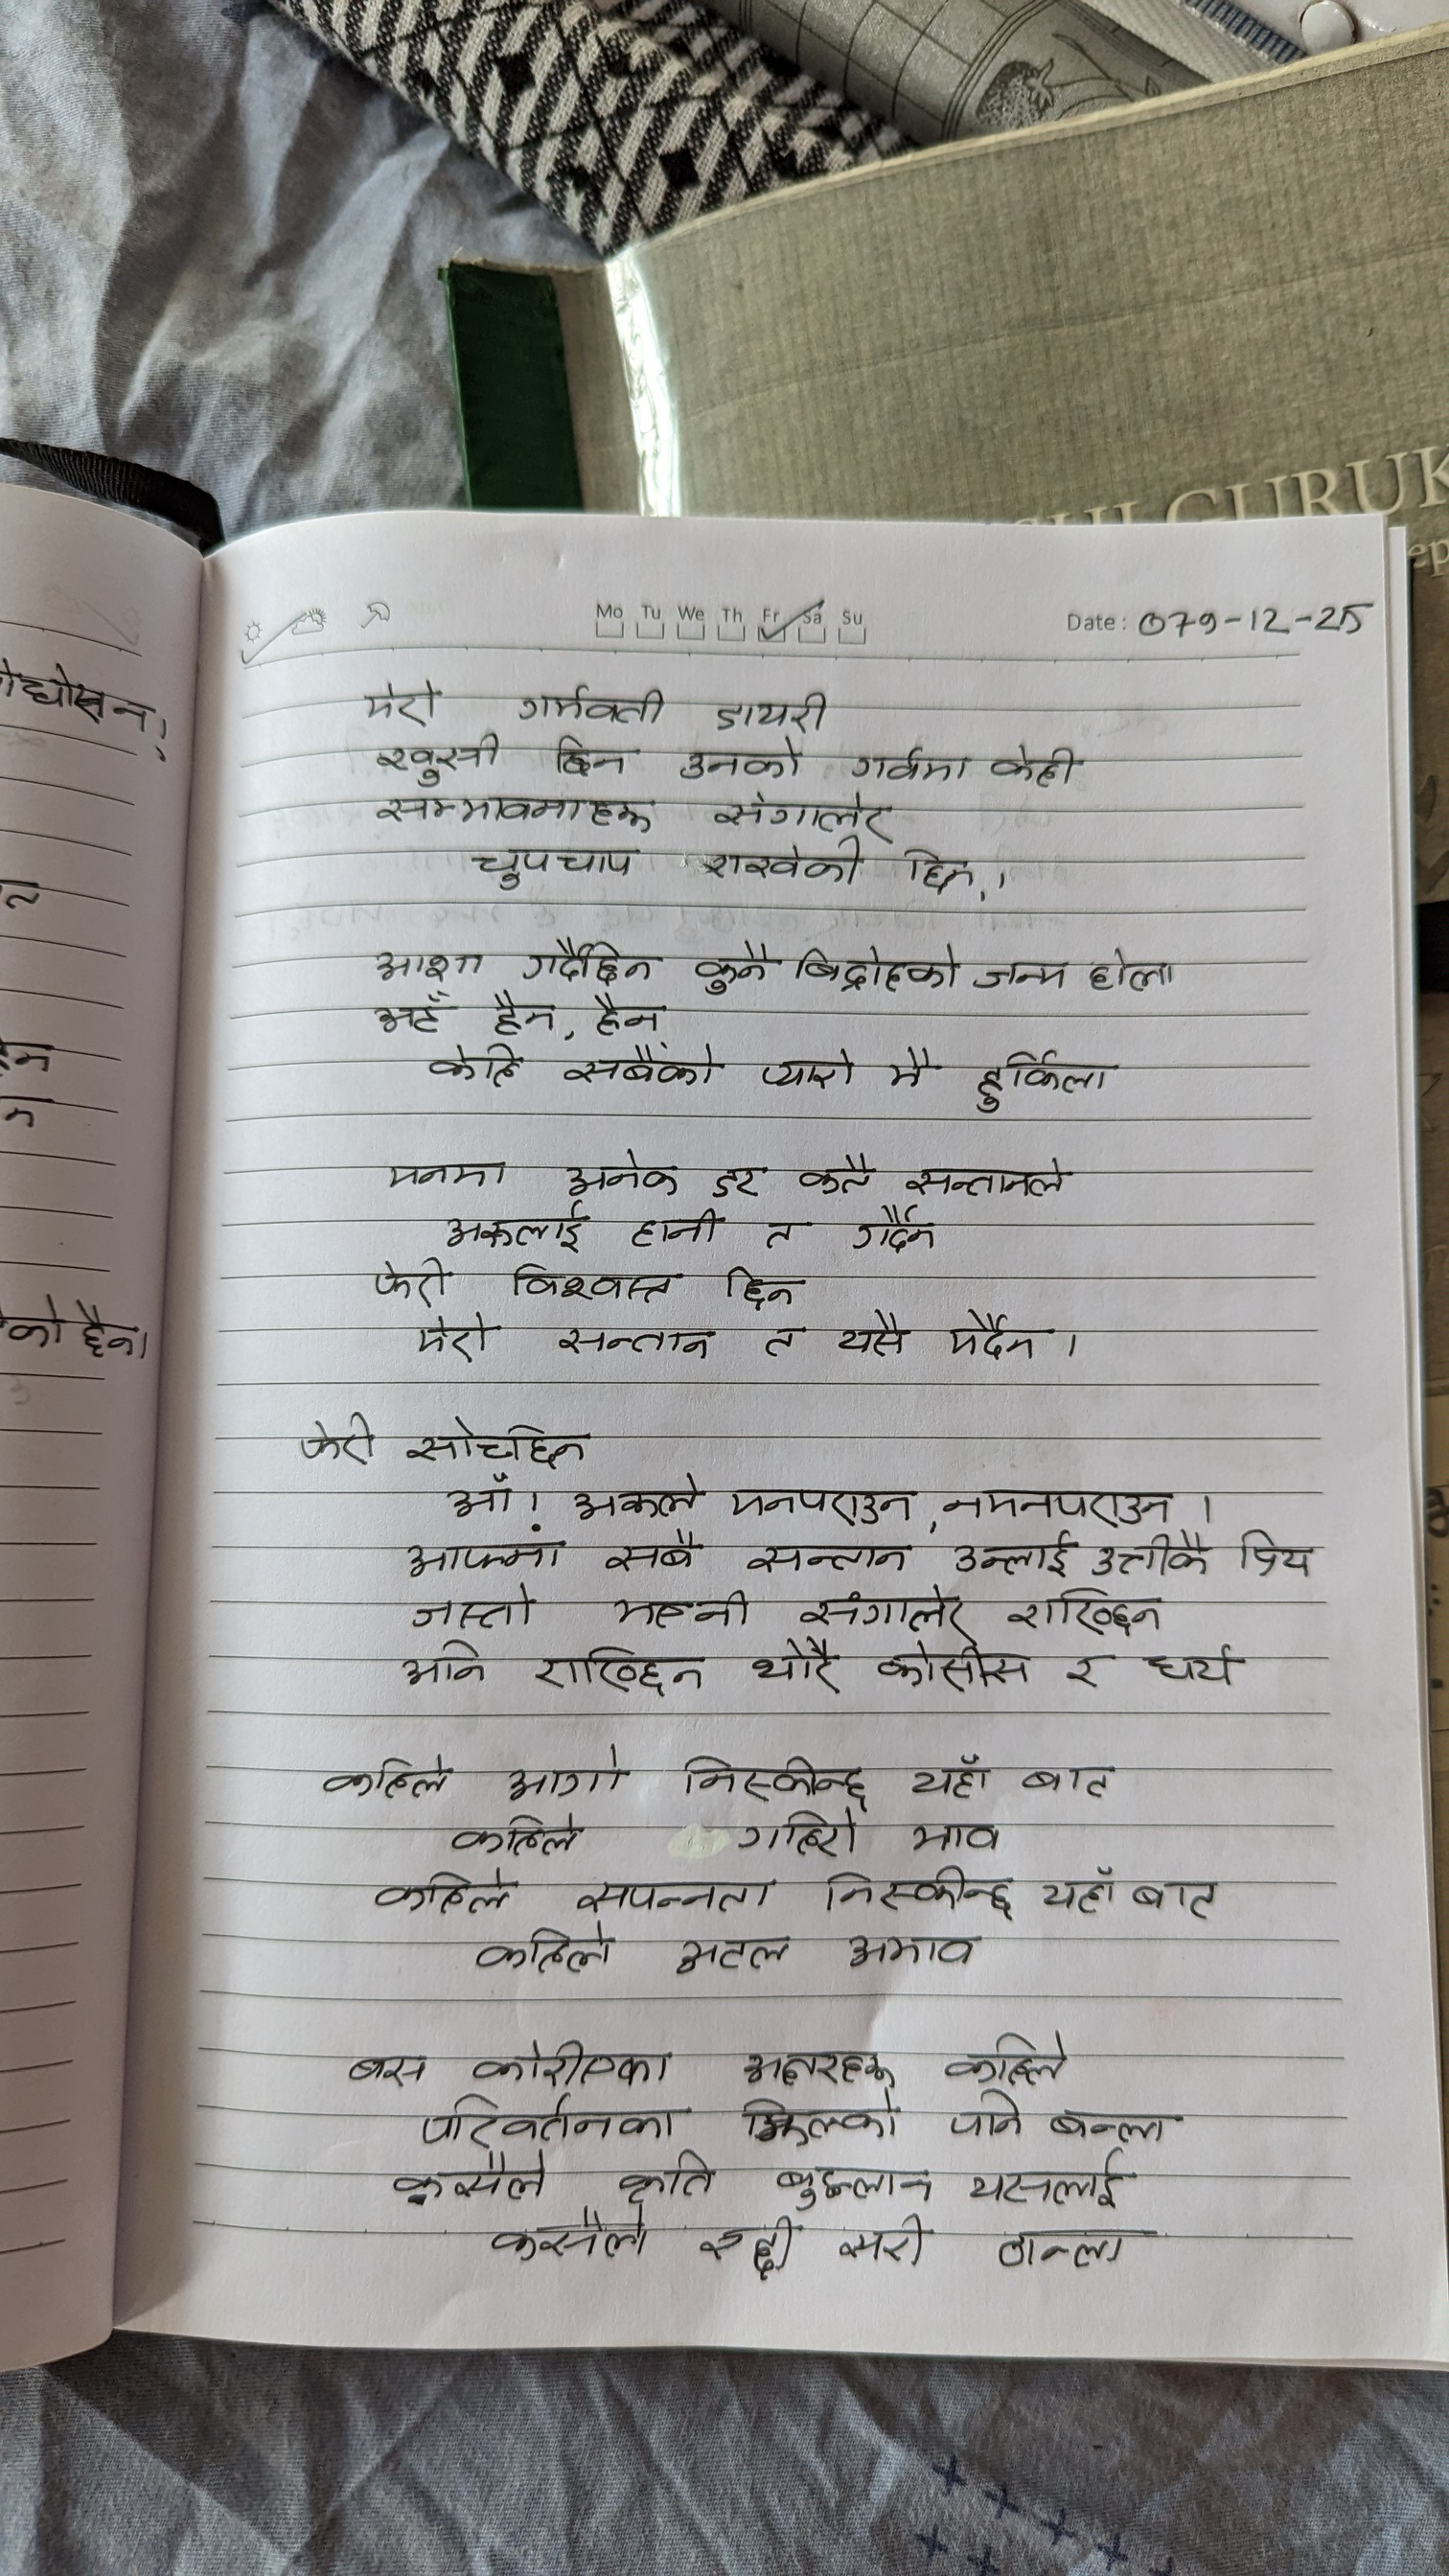text: (418, 2095, 681, 2148), (372, 789, 655, 837), (1134, 596, 1369, 646), (938, 1483, 1177, 1530), (962, 2144, 1125, 2212), (823, 1867, 1016, 1921), (469, 2038, 674, 2089), (973, 1047, 1115, 1120), (402, 1417, 591, 1470), (734, 2086, 901, 2146), (681, 1750, 876, 1801), (699, 832, 865, 890), (534, 1645, 709, 1700), (1003, 1585, 1164, 1640), (798, 943, 964, 996), (487, 2208, 653, 2261), (872, 1638, 1028, 1695), (387, 2151, 552, 2204), (439, 1200, 593, 1256), (706, 789, 893, 835), (794, 1589, 971, 1637), (497, 1741, 630, 1805), (370, 729, 510, 789), (469, 840, 637, 890), (510, 1258, 678, 1307), (570, 1879, 780, 1918), (559, 1040, 718, 1092), (938, 2028, 1069, 2089), (725, 1486, 915, 1529), (471, 1923, 616, 1978), (775, 2164, 934, 2212), (694, 2212, 798, 2282), (904, 1157, 1070, 1201), (517, 936, 655, 989), (372, 1867, 518, 1916), (610, 1585, 752, 1637), (511, 683, 669, 729), (409, 1578, 536, 1635), (400, 1534, 563, 1578), (446, 1810, 586, 1861), (745, 1537, 909, 1580), (1090, 1529, 1215, 1583), (741, 2043, 897, 2088), (711, 685, 832, 740), (571, 1474, 704, 1523), (556, 1323, 717, 1364), (317, 1752, 453, 1799), (561, 1146, 683, 1200), (950, 1530, 1070, 1583), (996, 2222, 1127, 2270), (740, 1810, 860, 1861), (674, 1930, 793, 1982), (679, 736, 803, 784), (844, 1928, 977, 1973), (1047, 2104, 1178, 2148), (750, 1640, 844, 1698), (835, 2212, 929, 2270), (947, 1309, 1044, 1364), (847, 743, 973, 786), (904, 844, 987, 906), (617, 2151, 717, 2203), (686, 939, 775, 996), (412, 1311, 499, 1368), (628, 1200, 724, 1251), (384, 1154, 510, 1192), (849, 1203, 941, 1256), (985, 740, 1079, 791), (1139, 1644, 1238, 1691), (602, 1530, 708, 1575), (297, 1412, 382, 1467), (757, 1047, 858, 1093), (400, 1637, 490, 1688), (368, 947, 487, 985), (947, 2088, 1024, 2146), (793, 1146, 878, 1200), (1086, 947, 1177, 996), (423, 1044, 522, 1088), (1238, 1527, 1318, 1582), (1039, 1865, 1120, 1918), (364, 1258, 456, 1304), (720, 1258, 800, 1311), (835, 1307, 913, 1361), (909, 1753, 993, 1803), (547, 732, 633, 778), (1131, 1879, 1217, 1925), (372, 991, 455, 1039), (359, 679, 439, 729), (971, 955, 1067, 996), (591, 989, 663, 1042), (487, 989, 559, 1039), (1019, 1762, 1115, 1799), (908, 1821, 1001, 1858), (446, 1472, 513, 1523), (341, 2052, 430, 2088), (885, 1046, 938, 1093), (708, 1161, 766, 1201), (1060, 1652, 1111, 1697), (761, 1318, 805, 1362), (763, 1215, 800, 1253)
